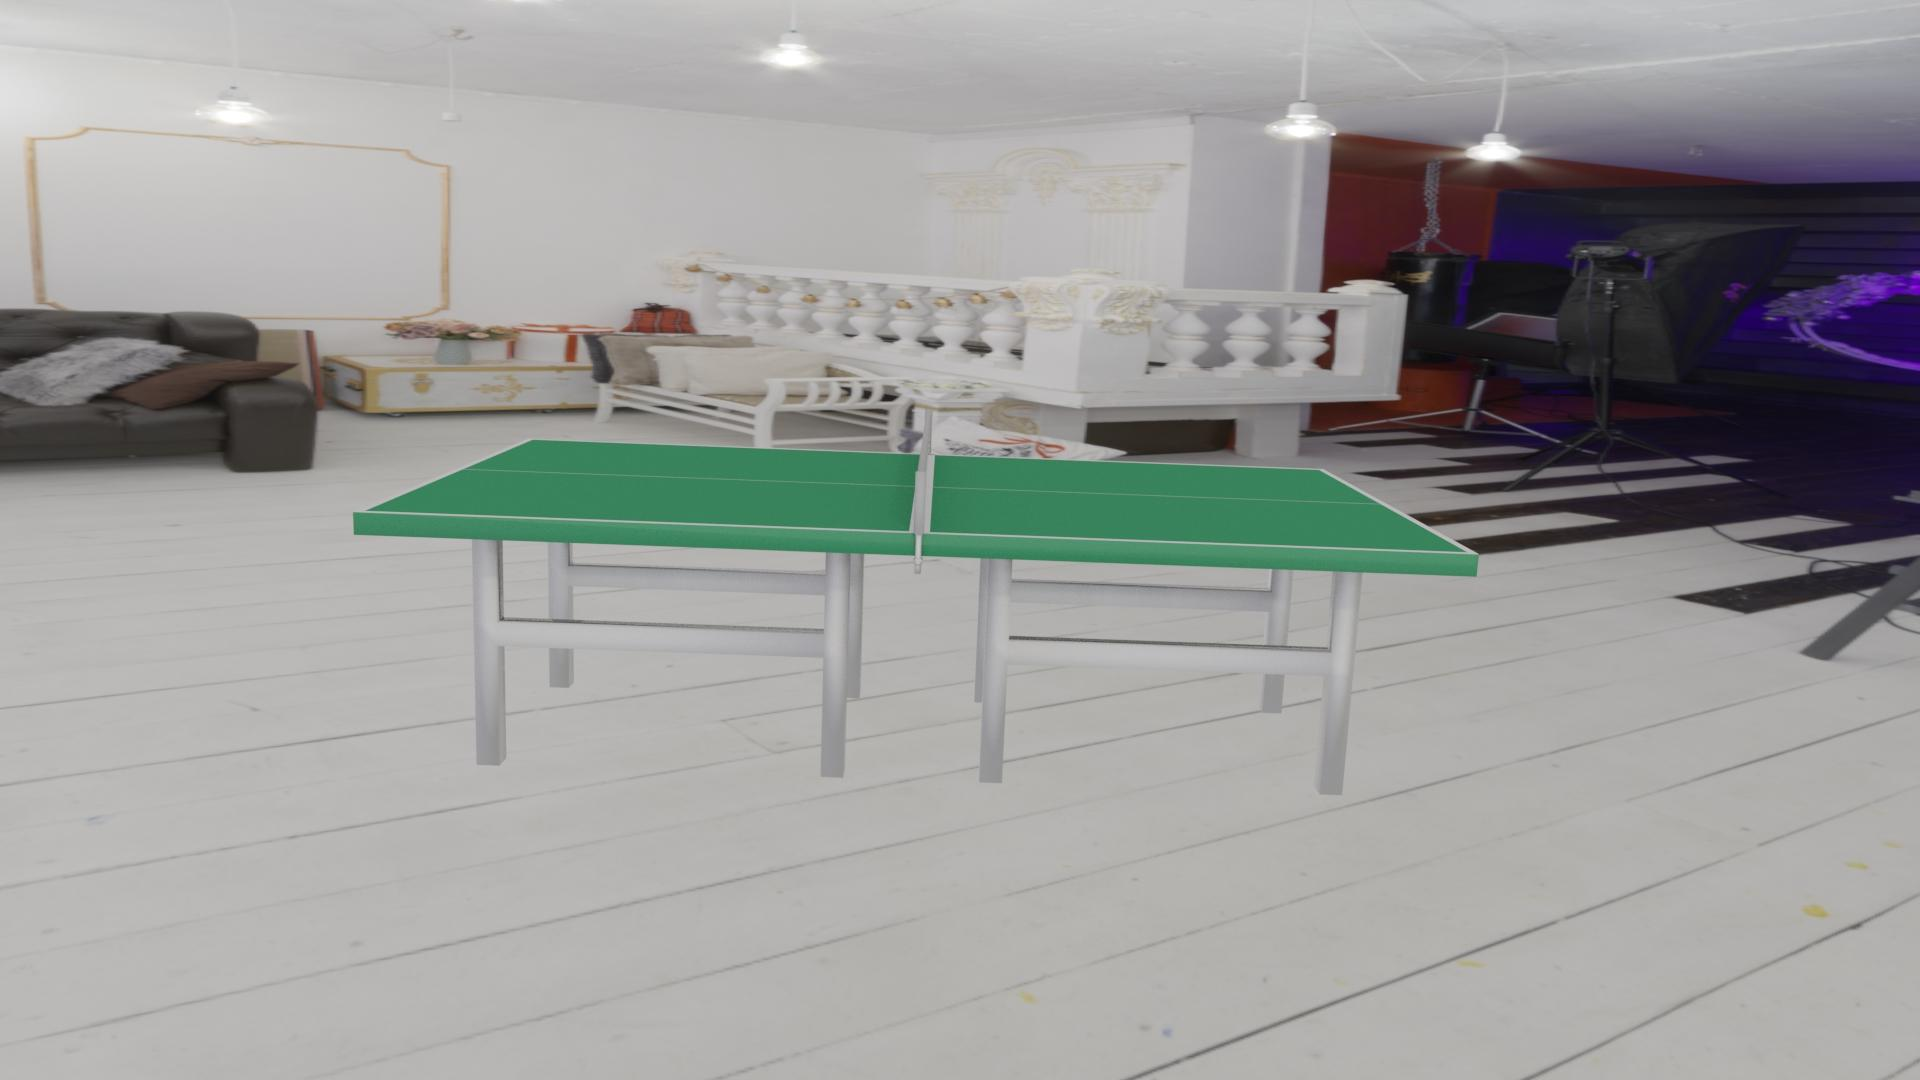table: (364, 439, 1468, 553)
